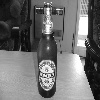beer: (36, 1, 56, 97)
